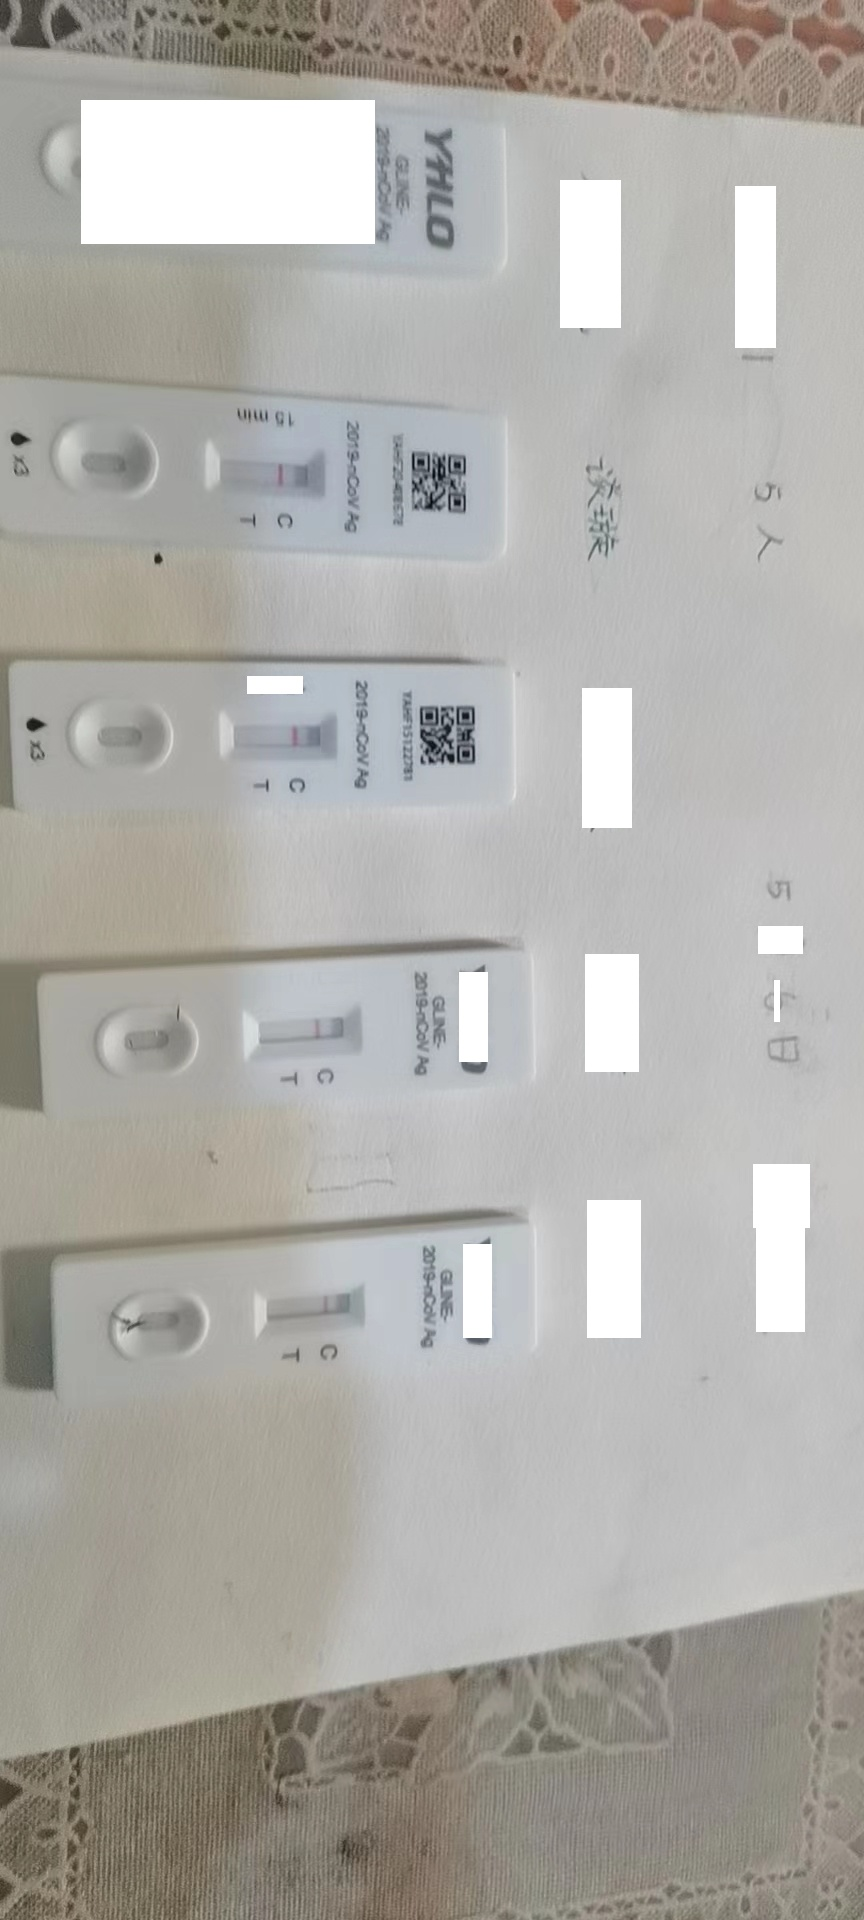negative: (222, 708, 337, 760)
